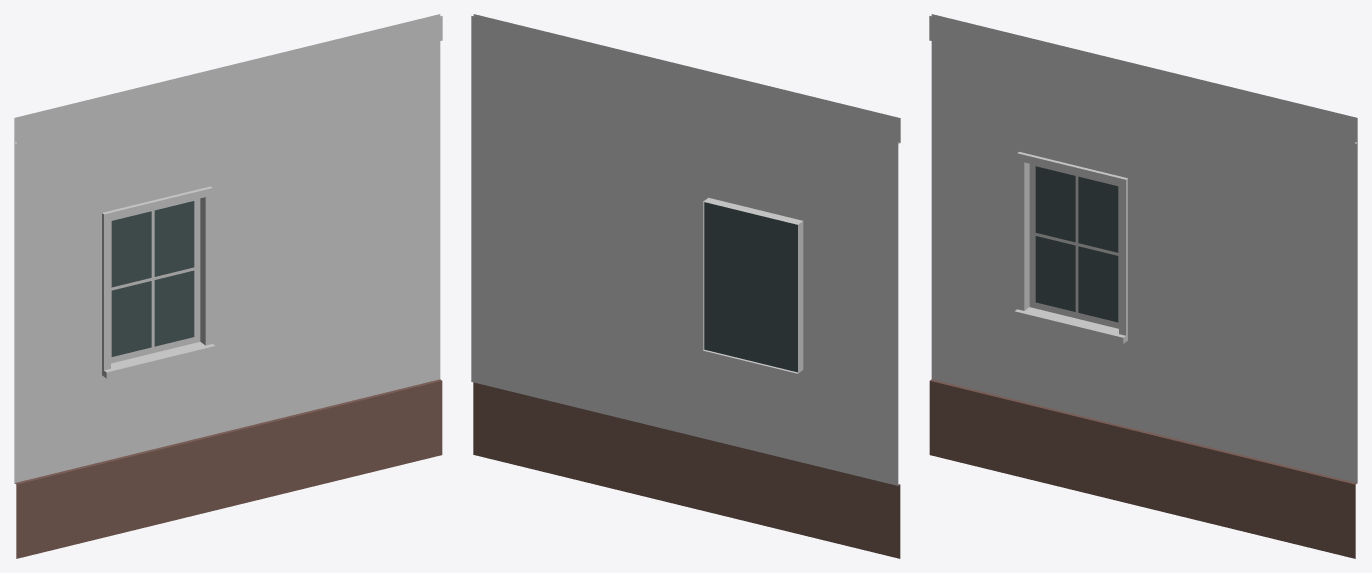
The picture shows the model from 3 angles, left to right: view 1: azimuth 30°, elevation 25°; view 2: azimuth 150°, elevation 25°; view 3: azimuth 330°, elevation 25°; orthographic projection.
Visible parts, largest first — view 1: a2000/600/base-w4; view 2: a2000/600/base-w4; view 3: a2000/600/base-w4.
Part boxes in pixels (x1,y1,x2,y2): a2000/600/base-w4: [14, 14, 442, 558]; a2000/600/base-w4: [471, 14, 900, 558]; a2000/600/base-w4: [929, 14, 1357, 558].
Bounding box in the file's own units: 3.6 × 3.55 × 0.15.
